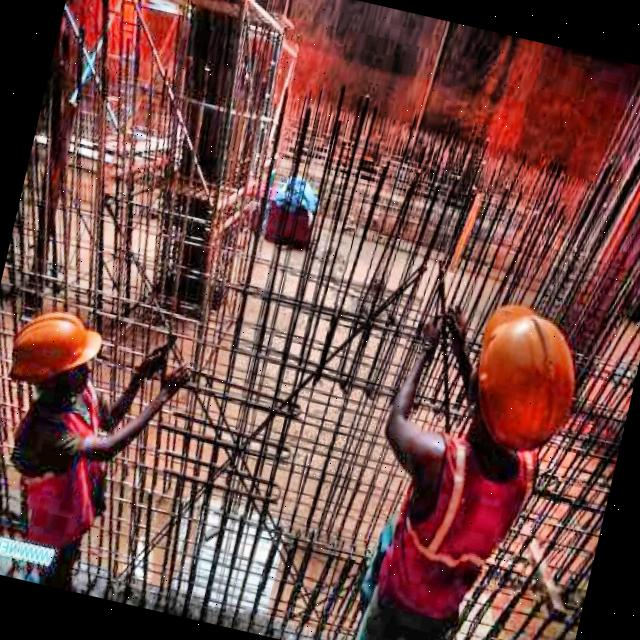helmet: (448, 292, 592, 466), (0, 297, 113, 410)
